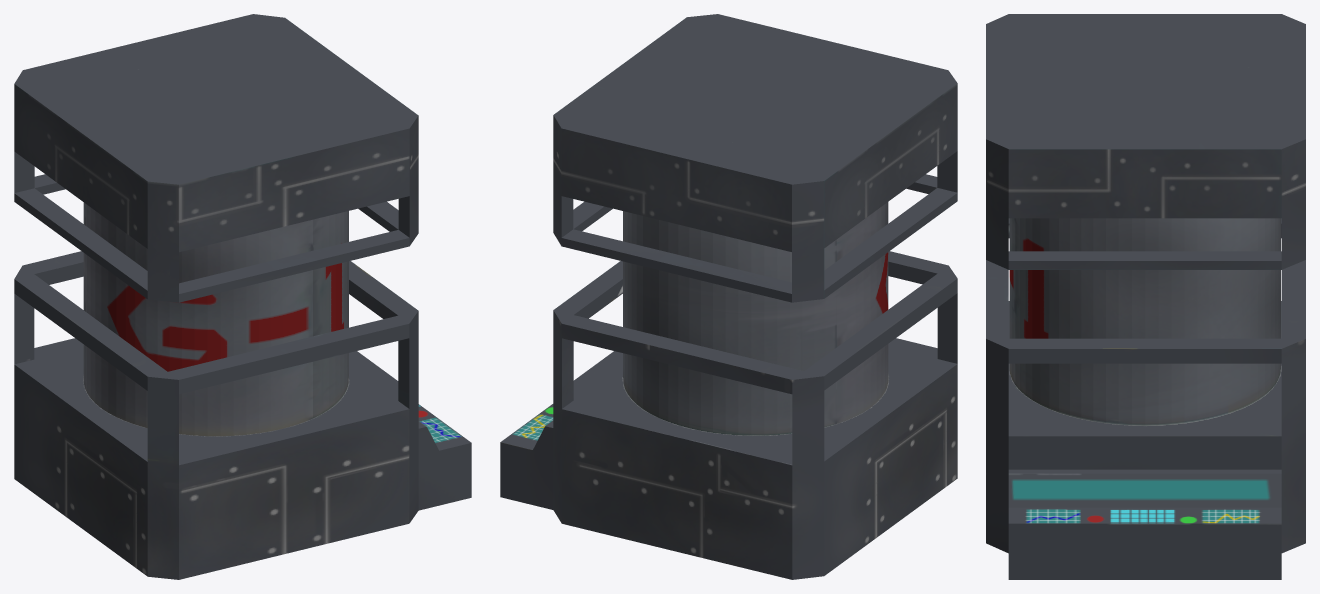
Rendered from generator.fbx.
3 renders of one model, left to right at view 1: azimuth 30°, elevation 25°; view 2: azimuth 150°, elevation 25°; view 3: azimuth 270°, elevation 25°, orthographic. The views are drawn at different scales.
Visible parts, largest first — view 1: Merged_PM3D_Cylinder3D1; view 2: Merged_PM3D_Cylinder3D1; view 3: Merged_PM3D_Cylinder3D1.
Boxes of the visible parts, x1=… form: Merged_PM3D_Cylinder3D1: x1=14, y1=14, x2=471, y2=579; Merged_PM3D_Cylinder3D1: x1=500, y1=14, x2=957, y2=579; Merged_PM3D_Cylinder3D1: x1=986, y1=14, x2=1305, y2=579.
Size of the model in its own units: 1114 by 1298 by 931.
